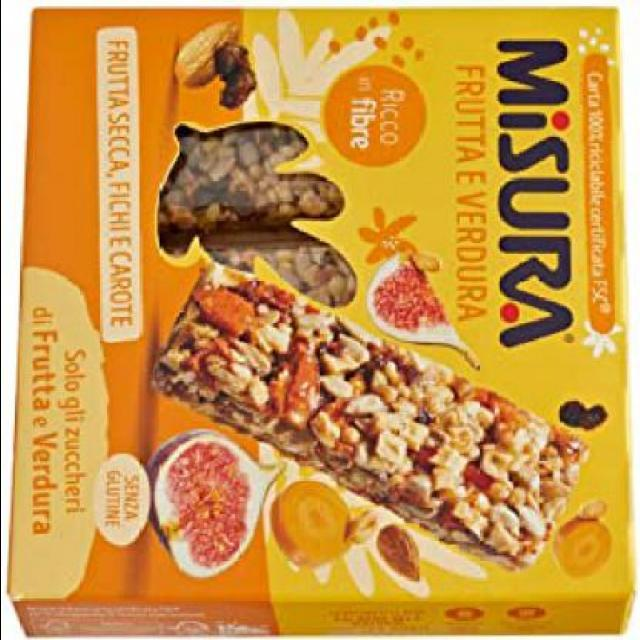Cereal bar: (2, 2, 628, 638)
